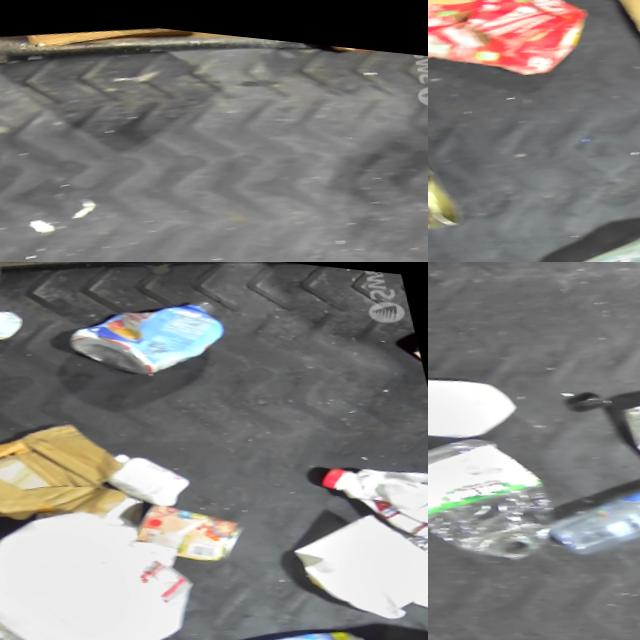can: (124, 479, 252, 568), (181, 601, 374, 640), (428, 96, 465, 249), (607, 376, 640, 468)
milk_jug: (0, 479, 204, 640)
non_white_jug: (310, 434, 428, 550)
plastic_bottle: (428, 415, 565, 580), (523, 424, 640, 574)
